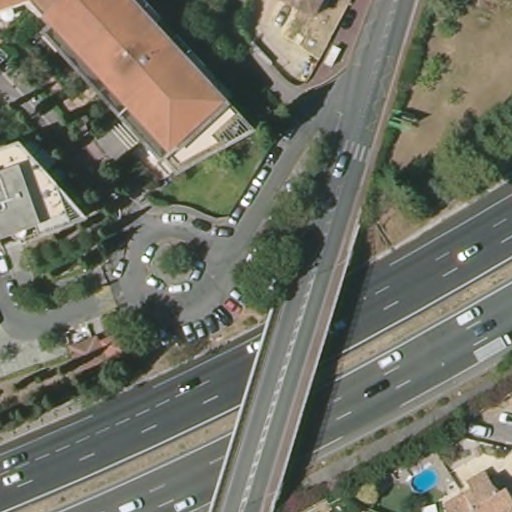pool: (407, 469, 441, 493)
